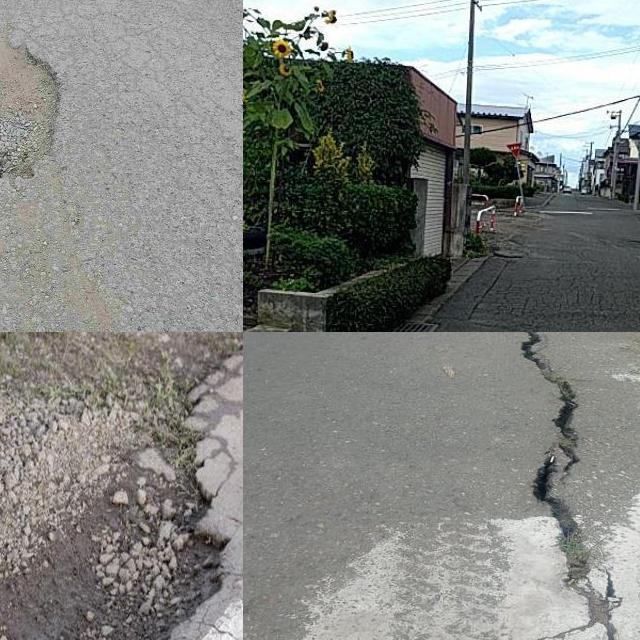Memanjang: (483, 332, 640, 640)
Pinggir: (0, 378, 243, 640)
